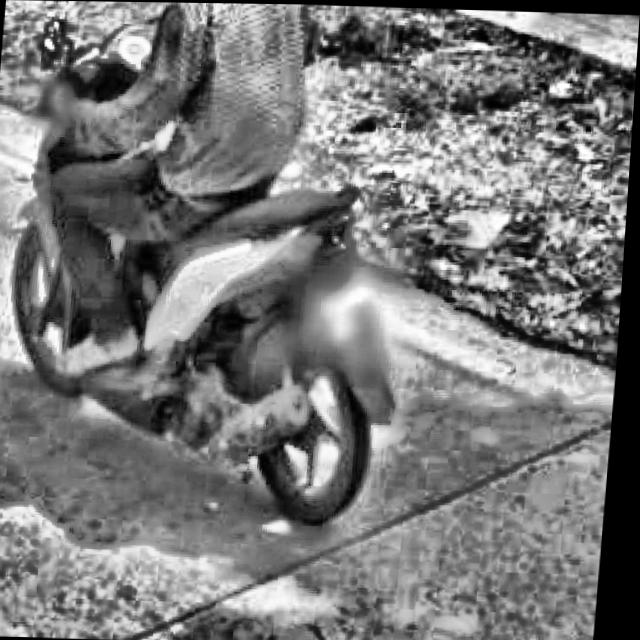motorcycle: (0, 9, 482, 533)
